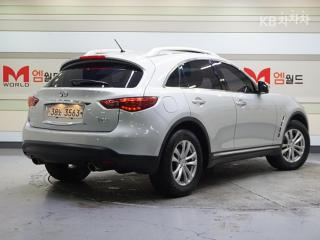3: (50, 106, 55, 117), (76, 108, 81, 118), (65, 108, 68, 116)
5: (68, 107, 72, 118)
6: (72, 107, 76, 117)
8: (55, 108, 59, 116)
plate: (43, 100, 88, 126)
노: (58, 108, 63, 117)
